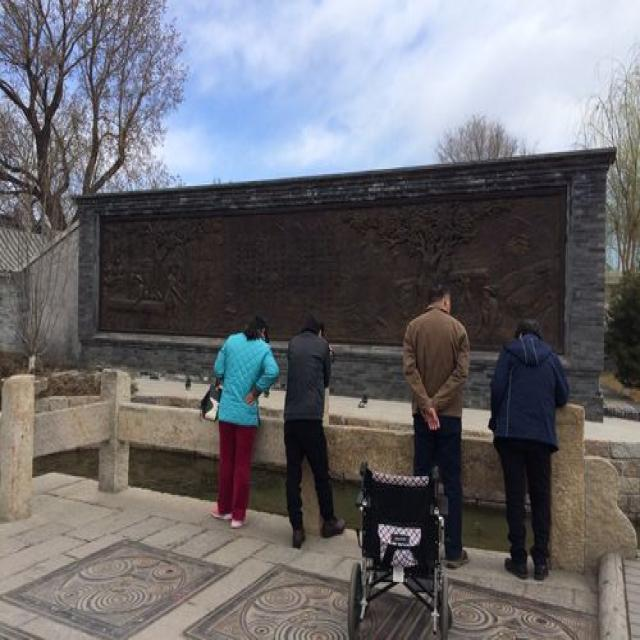wheelchairs: (342, 459, 462, 640)
